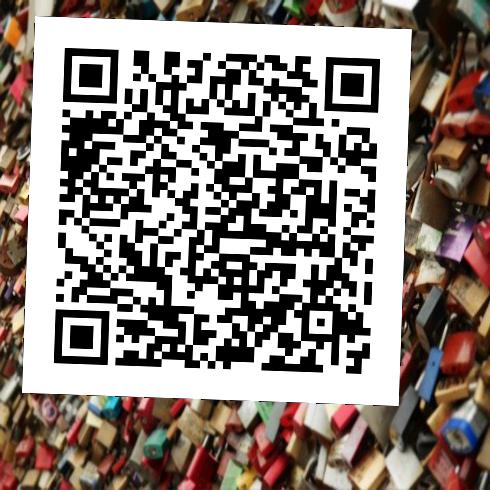qr_code: (22, 16, 411, 405)
